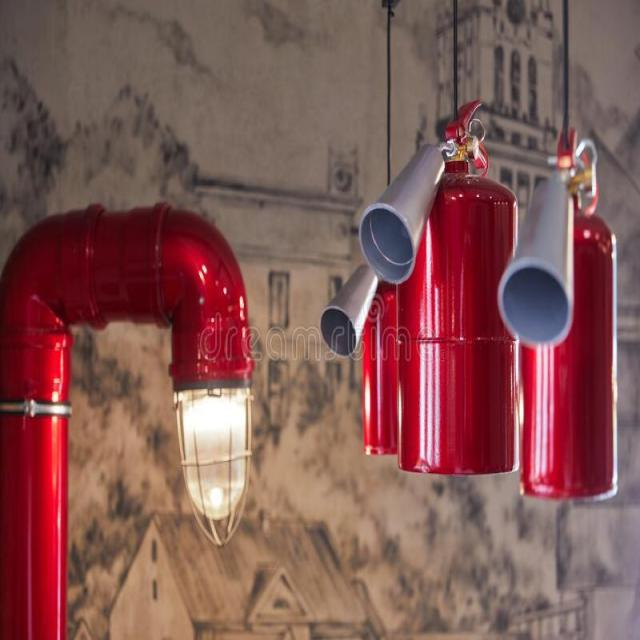fire_extinguisher: (354, 94, 520, 480), (491, 125, 622, 505), (316, 216, 436, 459)
